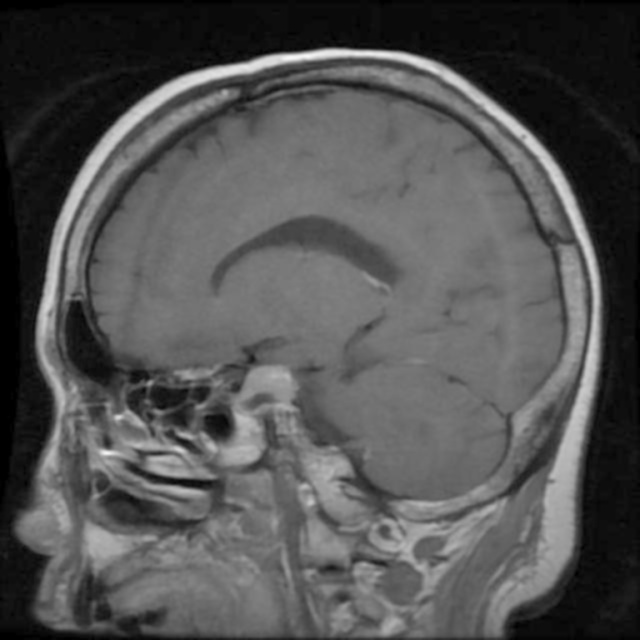no tumor: (242, 361, 298, 414)
